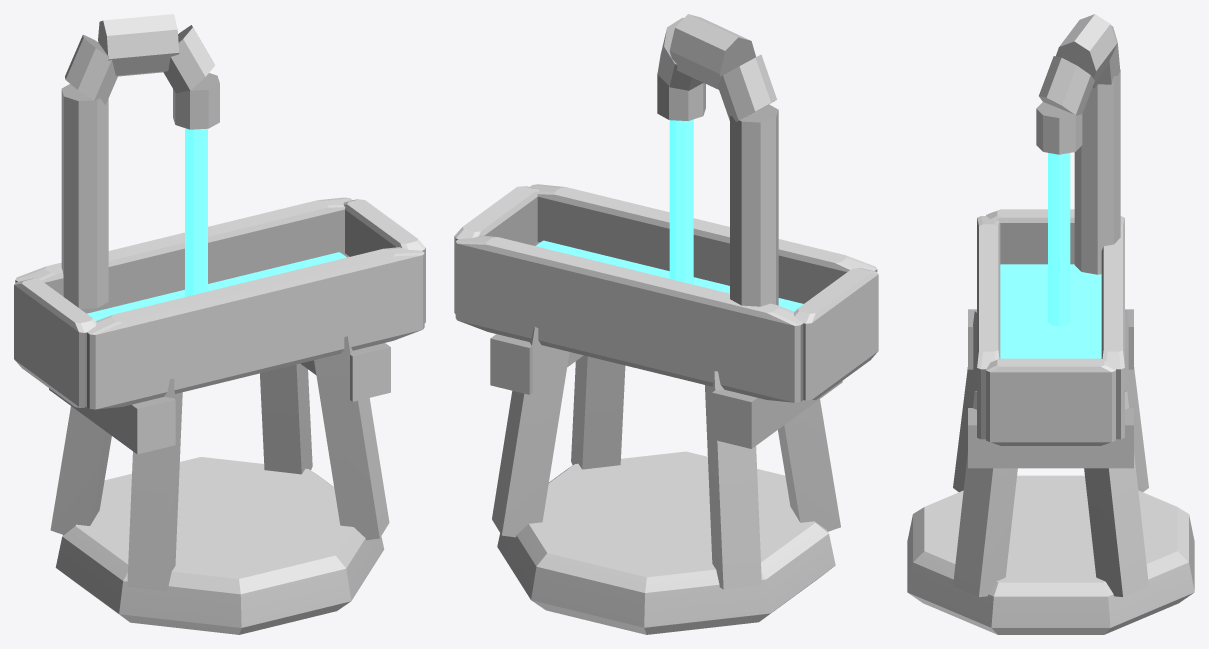
Rendered from water.glb.
The picture shows the model from 3 angles, left to right: view 1: azimuth 30°, elevation 25°; view 2: azimuth 150°, elevation 25°; view 3: azimuth 270°, elevation 25°; orthographic projection. The views are drawn at different scales.
Visible parts, largest first — view 1: water.001; view 2: water.001; view 3: water.001.
Boxes of the visible parts, x1,y1,x2,y2 form: water.001: [14, 14, 425, 634]; water.001: [454, 14, 878, 634]; water.001: [907, 14, 1194, 634].
Bounding box in the file's own units: 1.45 × 2.23 × 1.11.
